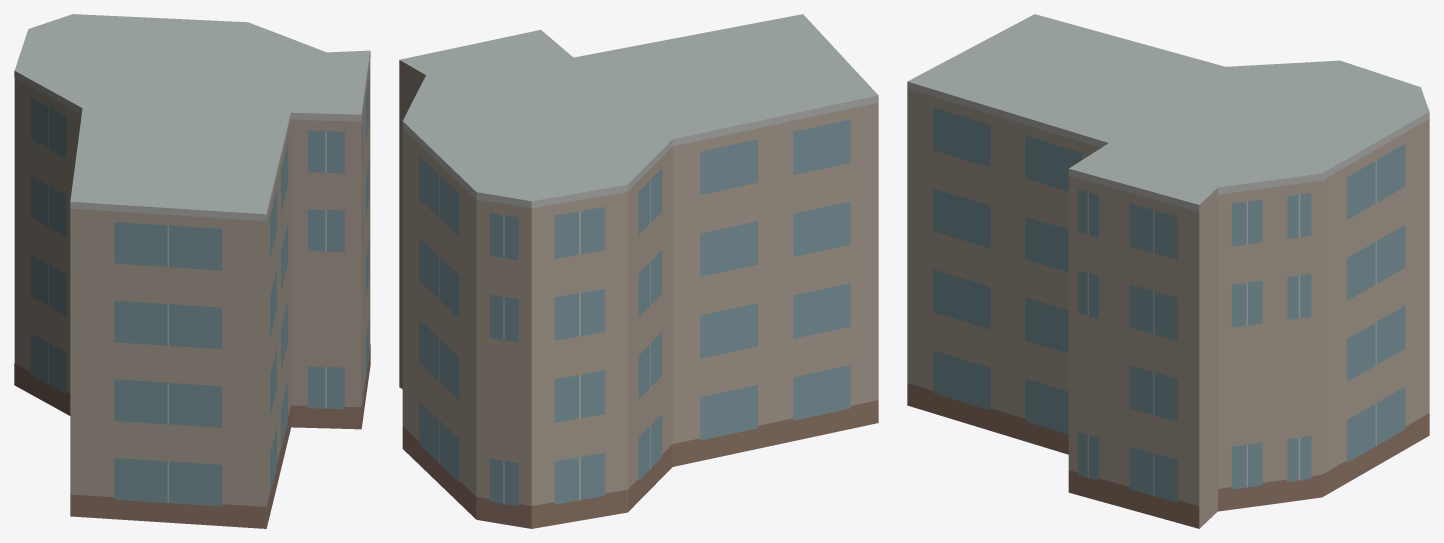
Rendered from survey-upis-32815681.glb.
3 views of the same model, side by side, from view 1: azimuth 30°, elevation 25°; view 2: azimuth 150°, elevation 25°; view 3: azimuth 270°, elevation 25° (orthographic). The views are drawn at different scales.
Parts seen in each view (by area): view 1: survey-upis-32815681.tmp; view 2: survey-upis-32815681.tmp; view 3: survey-upis-32815681.tmp.
Part boxes in pixels (left/top/right/bottom): survey-upis-32815681.tmp: left=14, top=14, right=370, bottom=528; survey-upis-32815681.tmp: left=399, top=14, right=878, bottom=528; survey-upis-32815681.tmp: left=907, top=14, right=1429, bottom=528.
Size of the model in its own units: 14.05 by 11.1 by 16.23.
